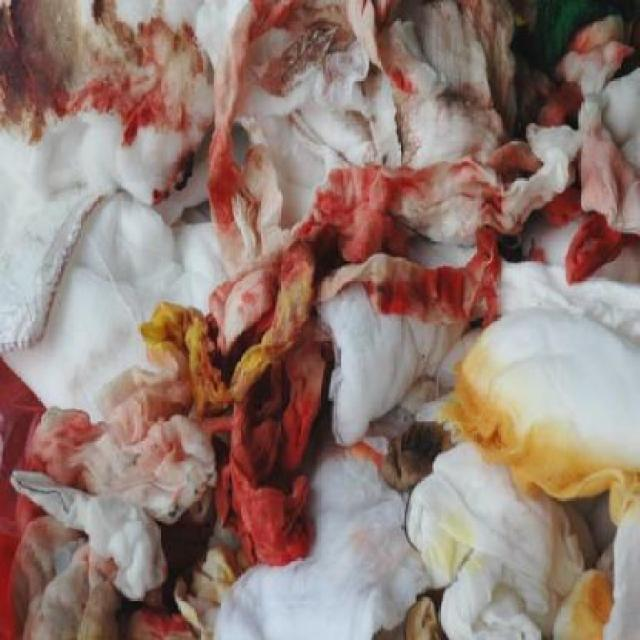garbage: (2, 2, 640, 639)
